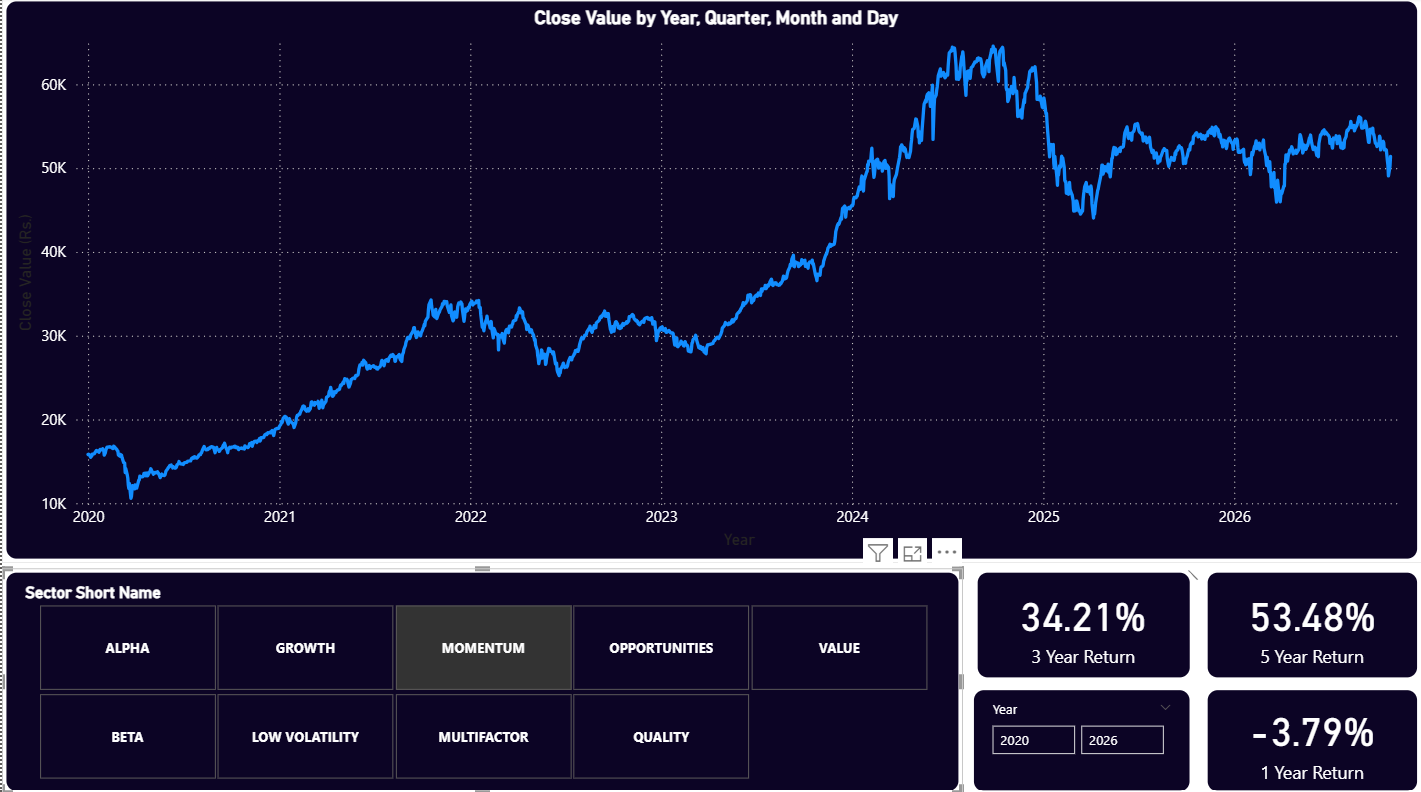

What the dashboard file says about the page in this screenshot:
{"tool":"powerbi","page":{"name":"Individual Report","canvas":[1280,720],"ordinal":1},"visuals":[{"type":"lineChart","title":" Close Value by Year, Quarter, Month and Day","fields":{"Category":["Date Table.Date.Variation.Date Hierarchy.Year","Date Table.Date.Variation.Date Hierarchy.Quarter","Date Table.Date.Variation.Date Hierarchy.Month","Date Table.Date.Variation.Date Hierarchy.Day"],"Y":["Max(Combine Data.Close)"]},"box":[0,0,1280.2,510.5],"z":0},{"type":"slicer","fields":{"Values":["Combine Data.Sector Short Name"]},"box":[0,515.1,866.3,204.7],"z":1000},{"type":"slicer","fields":{"Values":["Date Table.Year"]},"box":[872.1,620.9,202.3,98.8],"z":2000},{"type":"card","fields":{"Values":["Combine Data.3 Year Return"]},"box":[875.6,514.5,198.8,102.3],"z":3000},{"type":"card","fields":{"Values":["Combine Data.5 Year Return"]},"box":[1083.7,514.5,196.5,102.3],"z":4000},{"type":"card","fields":{"Values":["Combine Data.1 Year Return"]},"box":[1083.7,620.9,196.5,98.8],"z":5000}]}

Visuals, with their boxes in screenshot pixels (x1, y1, x2, y2), scaled from the page's 1280x720 canvas onto the 1421x792 screenshot:
" Close Value by Year, Quarter, Month and Day" lineChart: x1=0 y1=0 x2=1420 y2=562
slicer - Combine Data.Sector Short Name: x1=0 y1=567 x2=962 y2=791
slicer - Date Table.Year: x1=968 y1=683 x2=1193 y2=791
card - Combine Data.3 Year Return: x1=972 y1=566 x2=1193 y2=678
card - Combine Data.5 Year Return: x1=1203 y1=566 x2=1420 y2=678
card - Combine Data.1 Year Return: x1=1203 y1=683 x2=1420 y2=791
